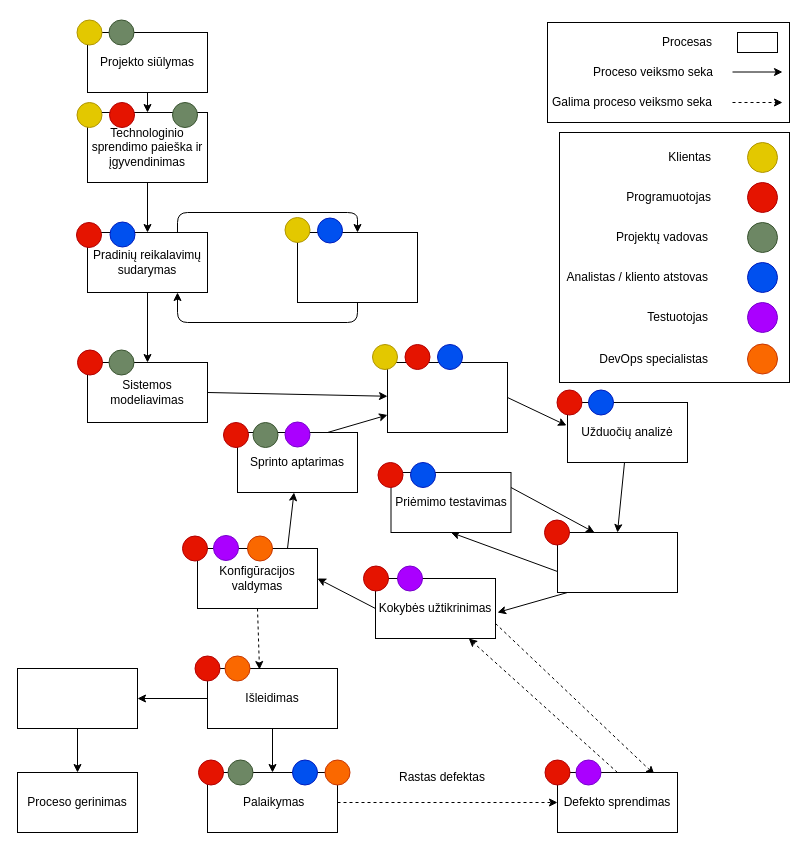
Some shapes in this 808 by 850 pixel diagram are drawn without their labels. Here are the shapes that lost their labels. From the top down, the centre of each, then its label:
At (357,267): "Susitikimai su klientu, funkcionalumo tikslinimas".
At (447,397): "Sprinto reikalavimų tikslinimas ir vertinimas".
At (617,562): "Programavimas".
At (77,698): "Balius".
